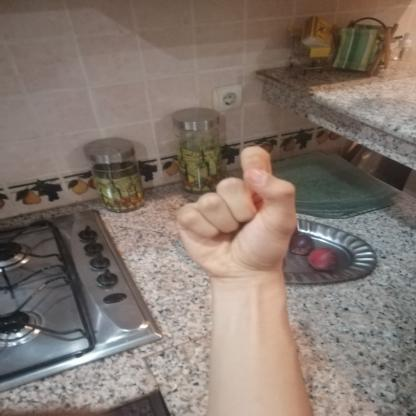FAA: (159, 136, 315, 291)
